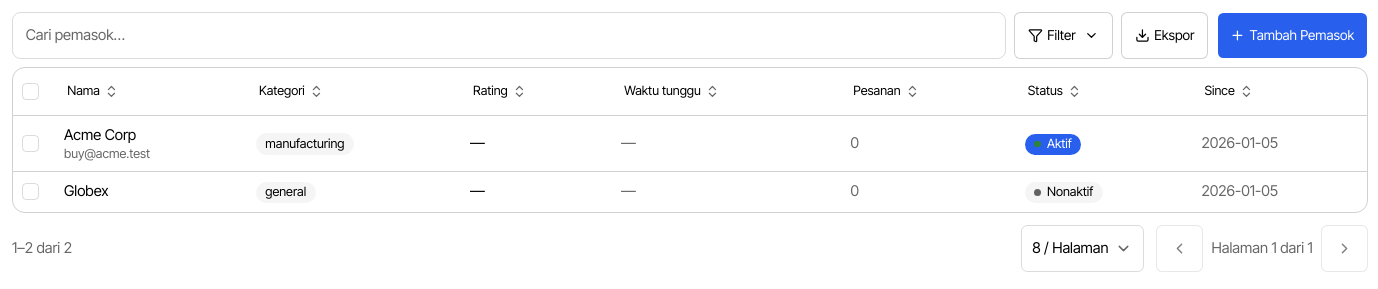
SuppliersTable › filters suppliers by search
Expected: the text "Acme Corp" is shown, [64,126,136,144]
Type "globex" into the search field with placeholder "Cari pemasok…". click: (509, 35)
box: [12,12,1006,59]
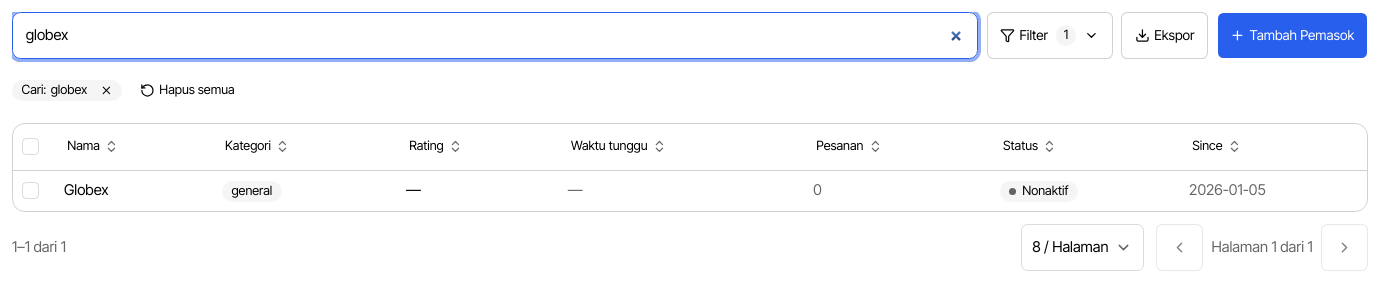
Expected: the text "Globex" is shown, [64,181,109,199]
Now the text "Acme Corp" is gone
